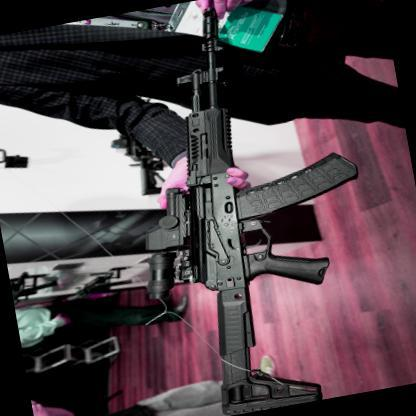rifle: (81, 8, 386, 416)
